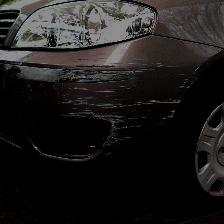bumper_scratch: (56, 37, 209, 185)
